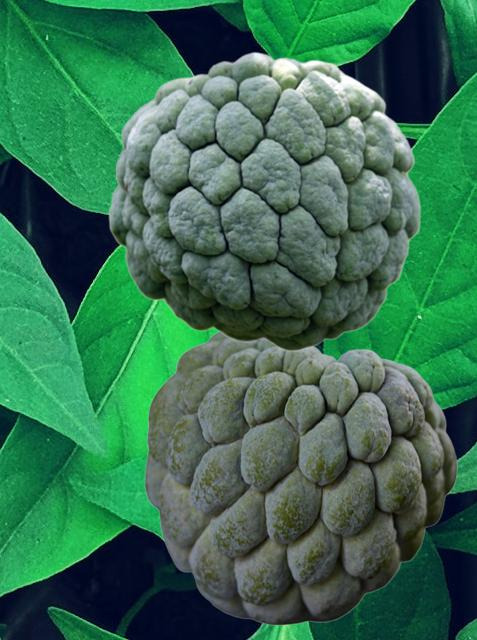atis: (108, 51, 420, 351), (144, 332, 456, 624)
